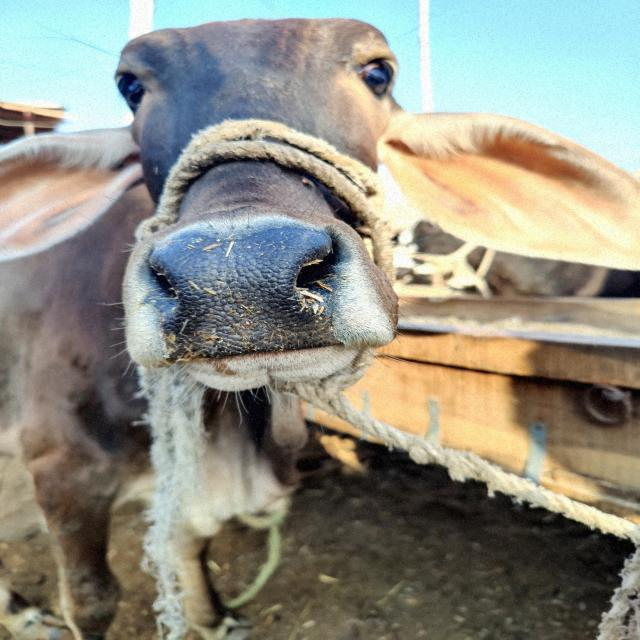muzzles: (133, 217, 364, 366)
